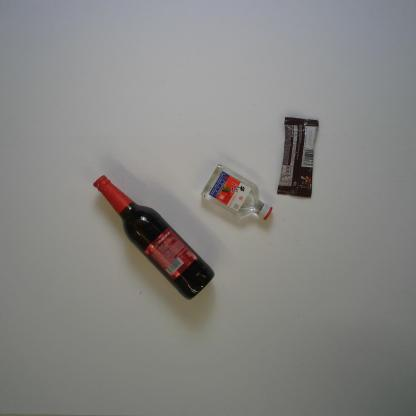Alcohol: (93, 174, 215, 300), (201, 164, 273, 221)
Chocolate: (276, 116, 320, 198)
